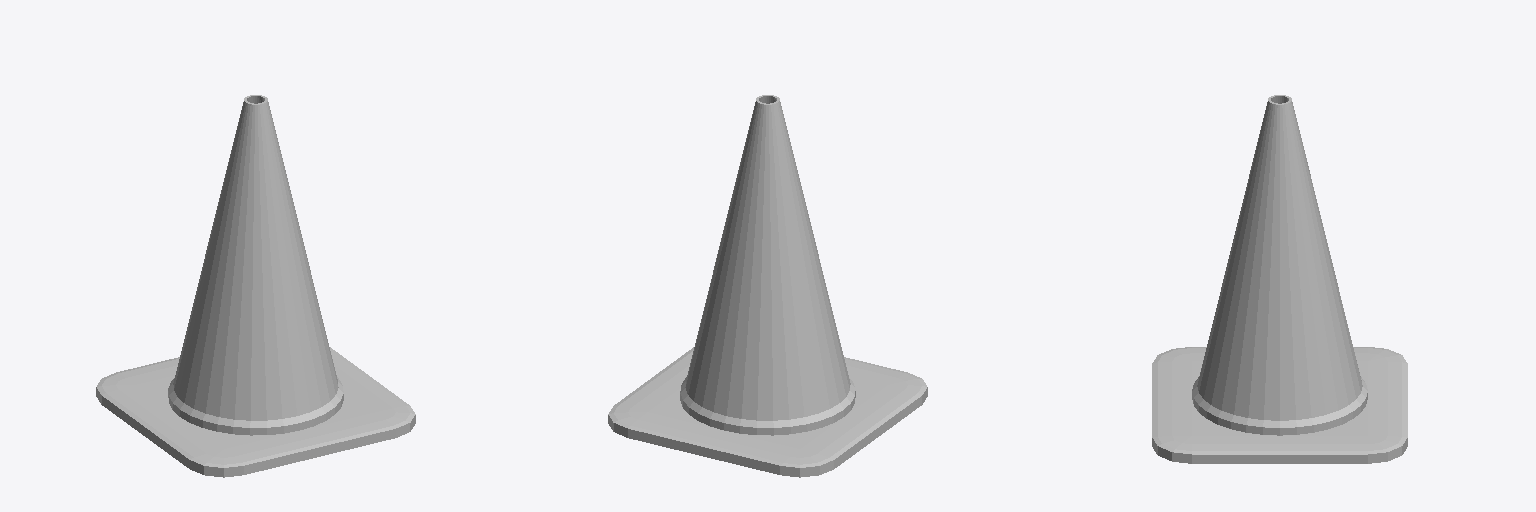
The picture shows the model from 3 angles: view 1: azimuth 30°, elevation 25°; view 2: azimuth 150°, elevation 25°; view 3: azimuth 270°, elevation 25°; orthographic projection.
Visible parts, largest first — view 1: Boole; view 2: Boole; view 3: Boole.
Part boxes in pixels (x1,y1,x2,y2): Boole: (96,95,415,477); Boole: (608,95,927,477); Boole: (1152,95,1407,463).
Size of the model in its own units: 42.53 by 57.48 by 42.53.